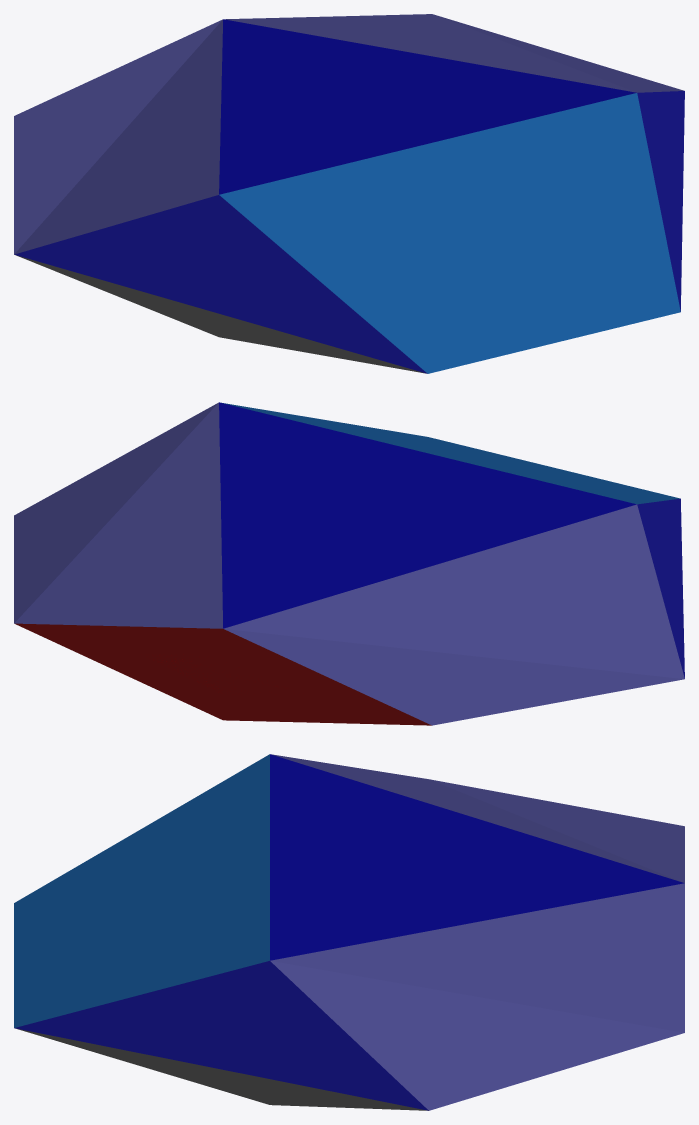
File: aspmk2.obj
3 renders of one model, top to bottom at view 1: azimuth 30°, elevation 25°; view 2: azimuth 150°, elevation 25°; view 3: azimuth 270°, elevation 25°, orthographic.
Size of the model in its own units: 138 by 32 by 118.
